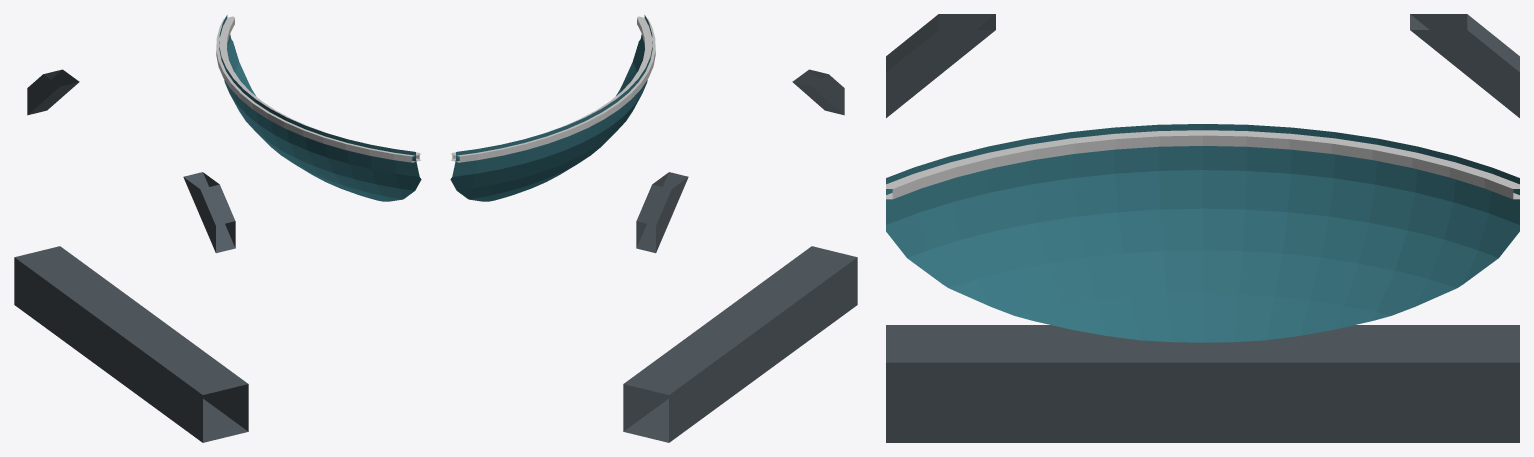
The model's file is cell_3.obj.
3 views of the same model, side by side, from view 1: azimuth 30°, elevation 25°; view 2: azimuth 150°, elevation 25°; view 3: azimuth 270°, elevation 25° (orthographic). The views are drawn at different scales.
Size of the model in its own units: 0.67 by 0.7 by 1.
